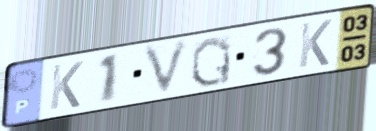1: (94, 51, 121, 107)
3: (249, 26, 290, 78)
K: (296, 17, 335, 71), (47, 59, 86, 112)
Q: (189, 34, 234, 89)
V: (140, 36, 194, 100)
